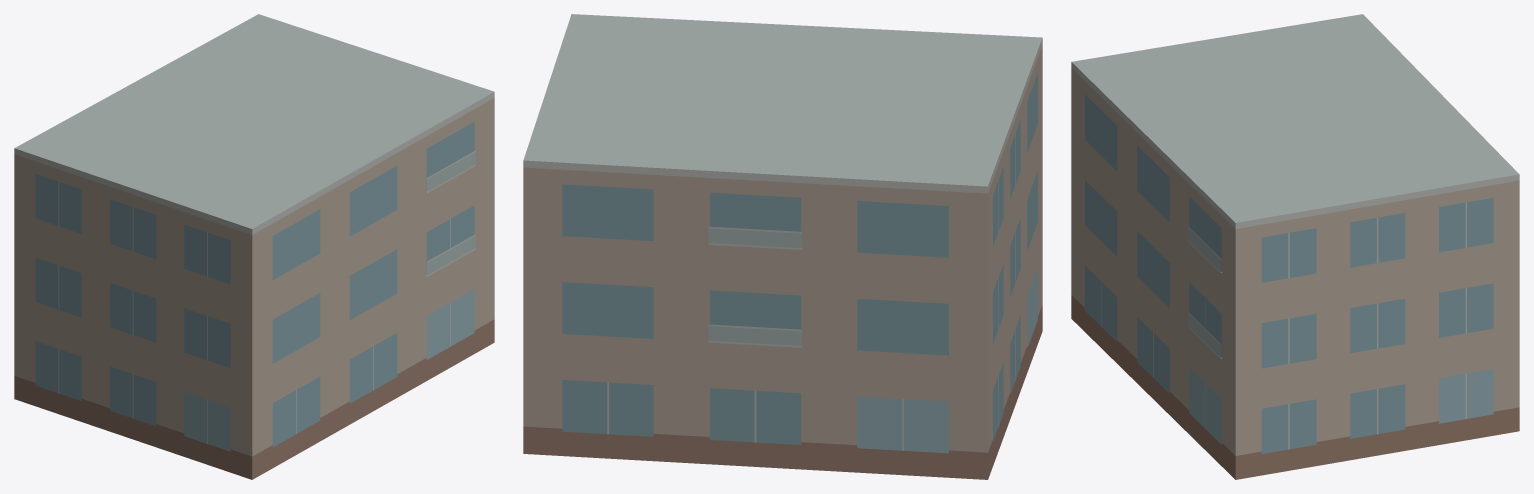
File: survey-upis-32762744.glb
The picture shows the model from 3 angles, left to right: view 1: azimuth 30°, elevation 25°; view 2: azimuth 150°, elevation 25°; view 3: azimuth 270°, elevation 25°; orthographic projection. The views are drawn at different scales.
Parts seen in each view (by area): view 1: survey-upis-32762744.tmp; view 2: survey-upis-32762744.tmp; view 3: survey-upis-32762744.tmp.
Boxes of the visible parts, x1,y1,x2,y2 form: survey-upis-32762744.tmp: (14, 14, 494, 479); survey-upis-32762744.tmp: (523, 14, 1042, 479); survey-upis-32762744.tmp: (1071, 14, 1519, 479).
Size of the model in its own units: 17.81 by 10.2 by 16.14.
